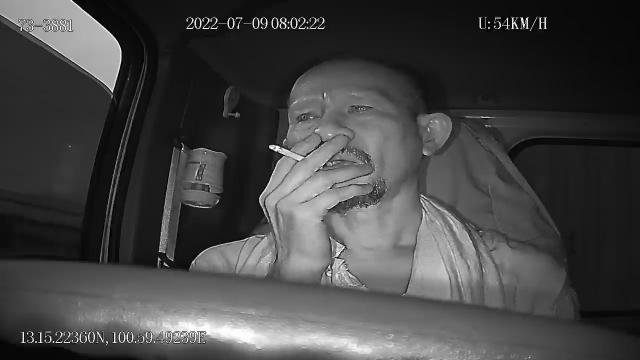SafeDriving: (342, 94, 382, 118), (288, 105, 324, 126)
Smoking: (268, 144, 306, 162)
